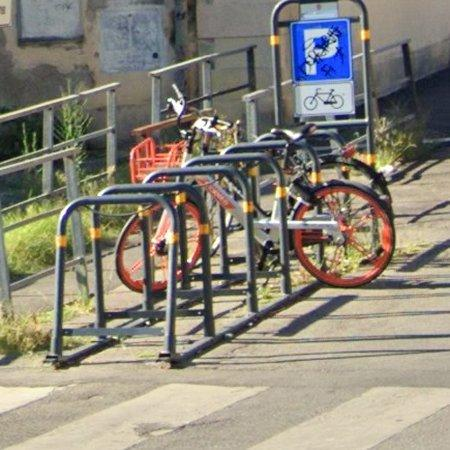crosswalks: (0, 381, 450, 450)
